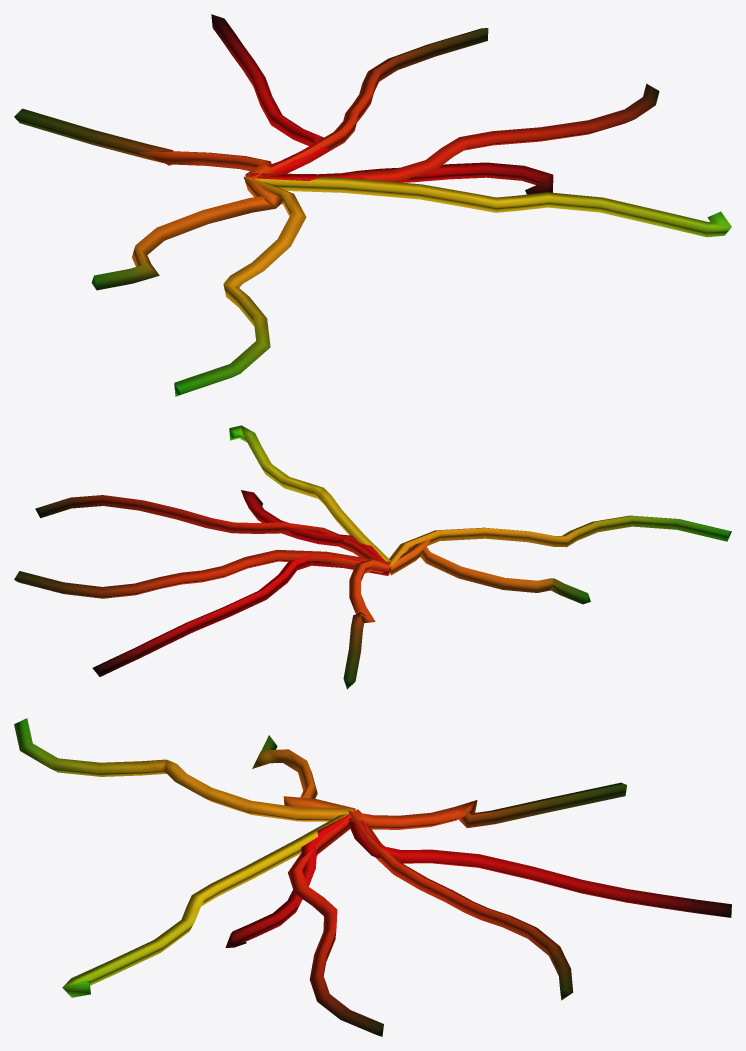
Rendered from Alien03.fbx.
3 renders of one model, top to bottom at view 1: azimuth 30°, elevation 25°; view 2: azimuth 150°, elevation 25°; view 3: azimuth 270°, elevation 25°, orthographic. The views are drawn at different scales.
Parts seen in each view (by area): view 1: transform5; view 2: transform5; view 3: transform5.
Boxes of the visible parts, box(x1,y1,x2,y2) form: transform5: box(14, 14, 731, 396); transform5: box(14, 425, 731, 689); transform5: box(14, 718, 731, 1036).
Size of the model in its own units: 298 by 19.2 by 288.
